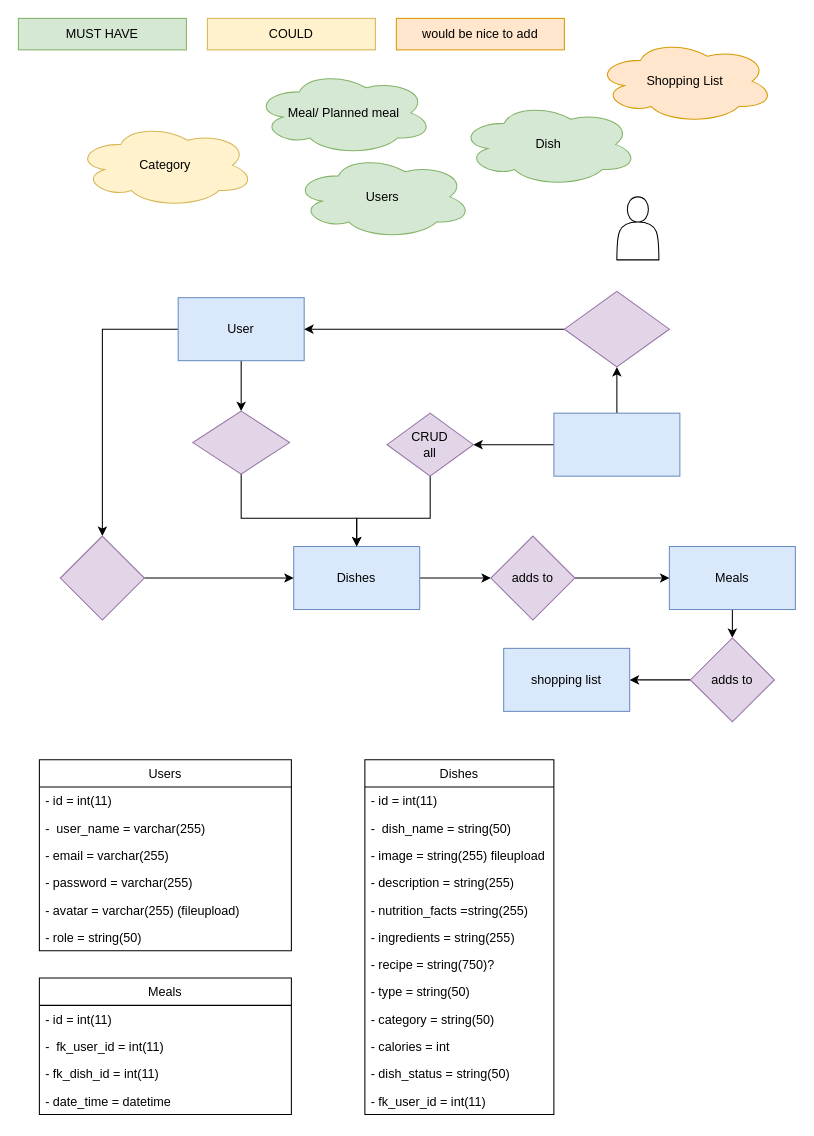
Some shapes in this 814 by 1136 pixel diagram are drawn without their labels. The box of each missing label's shape, as (x1, y1, x2, y2) in pixels:
Admin: (553, 412, 680, 476)
choose: (59, 535, 144, 620)
CRUD their: (192, 410, 290, 474)
Updates /Deletes /Block: (563, 290, 669, 367)
